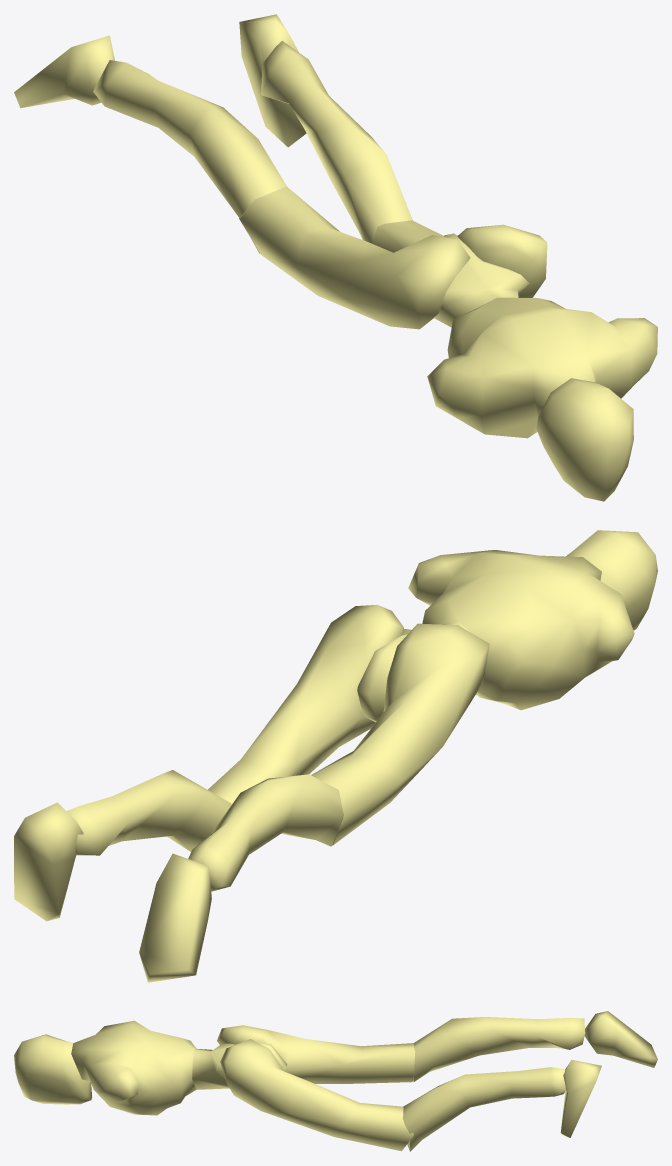
The model's file is filth56.obj.
The picture shows the model from 3 angles, top to bottom: view 1: azimuth 30°, elevation 25°; view 2: azimuth 150°, elevation 25°; view 3: azimuth 270°, elevation 25°; orthographic projection. The views are drawn at different scales.
Visible parts, largest first — view 1: Melee_Husk; view 2: Melee_Husk; view 3: Melee_Husk.
Part boxes in pixels (x1,y1,x2,y2): Melee_Husk: (14,14,657,501); Melee_Husk: (14,530,657,982); Melee_Husk: (14,1011,657,1151).
Bounding box in the file's own units: 23.71 × 14.31 × 87.24.
